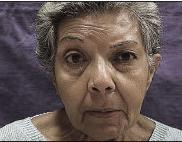normalMouth: (82, 104, 126, 121)
strokeEyeMid: (59, 32, 140, 70)
